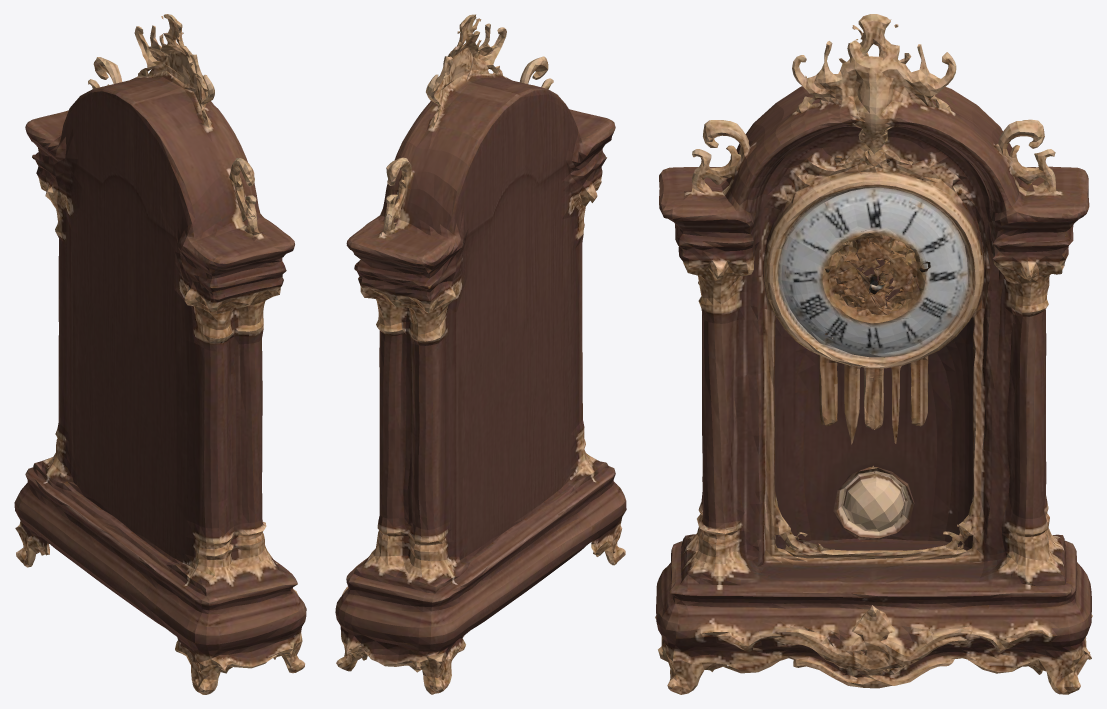
Rendered from grandfather clock.glb.
3 renders of one model, left to right at view 1: azimuth 30°, elevation 25°; view 2: azimuth 150°, elevation 25°; view 3: azimuth 270°, elevation 25°, orthographic. The views are drawn at different scales.
Visible parts, largest first — view 1: tripo_node_d58d5299-04e3-410e-afda-7ad384c95b4d; view 2: tripo_node_d58d5299-04e3-410e-afda-7ad384c95b4d; view 3: tripo_node_d58d5299-04e3-410e-afda-7ad384c95b4d.
Boxes of the visible parts, <box> form: tripo_node_d58d5299-04e3-410e-afda-7ad384c95b4d: <box>14,14,306,694</box>; tripo_node_d58d5299-04e3-410e-afda-7ad384c95b4d: <box>335,14,626,694</box>; tripo_node_d58d5299-04e3-410e-afda-7ad384c95b4d: <box>655,14,1092,694</box>.
Bounding box in the file's own units: 0.2234 × 0.9731 × 0.5839.
Materials: 1 (1 with a texture image).
